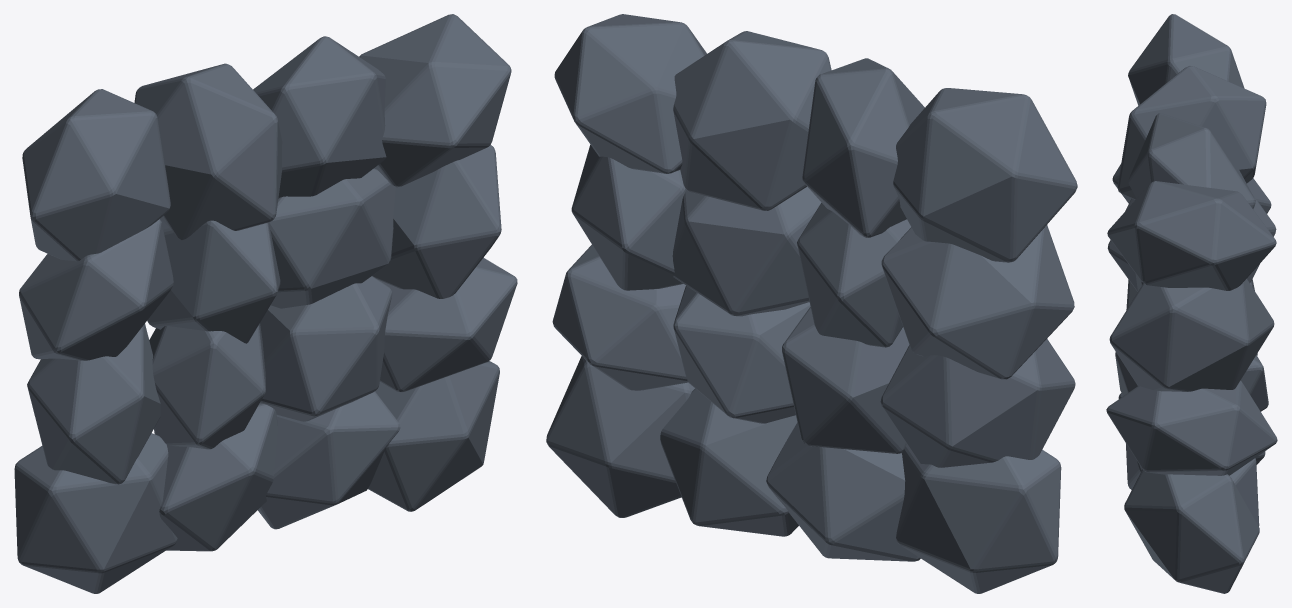
Rendered from rock_wall.glb.
3 renders of one model, left to right at view 1: azimuth 30°, elevation 25°; view 2: azimuth 150°, elevation 25°; view 3: azimuth 270°, elevation 25°, orthographic. The views are drawn at different scales.
Parts seen in each view (by area): view 1: rock_wall; view 2: rock_wall; view 3: rock_wall.
Part boxes in pixels (bbox=[...]): rock_wall: bbox=[14, 14, 517, 593]; rock_wall: bbox=[546, 14, 1077, 593]; rock_wall: bbox=[1106, 14, 1277, 593].
Bounding box in the file's own units: 7.11 × 6.91 × 2.49.
